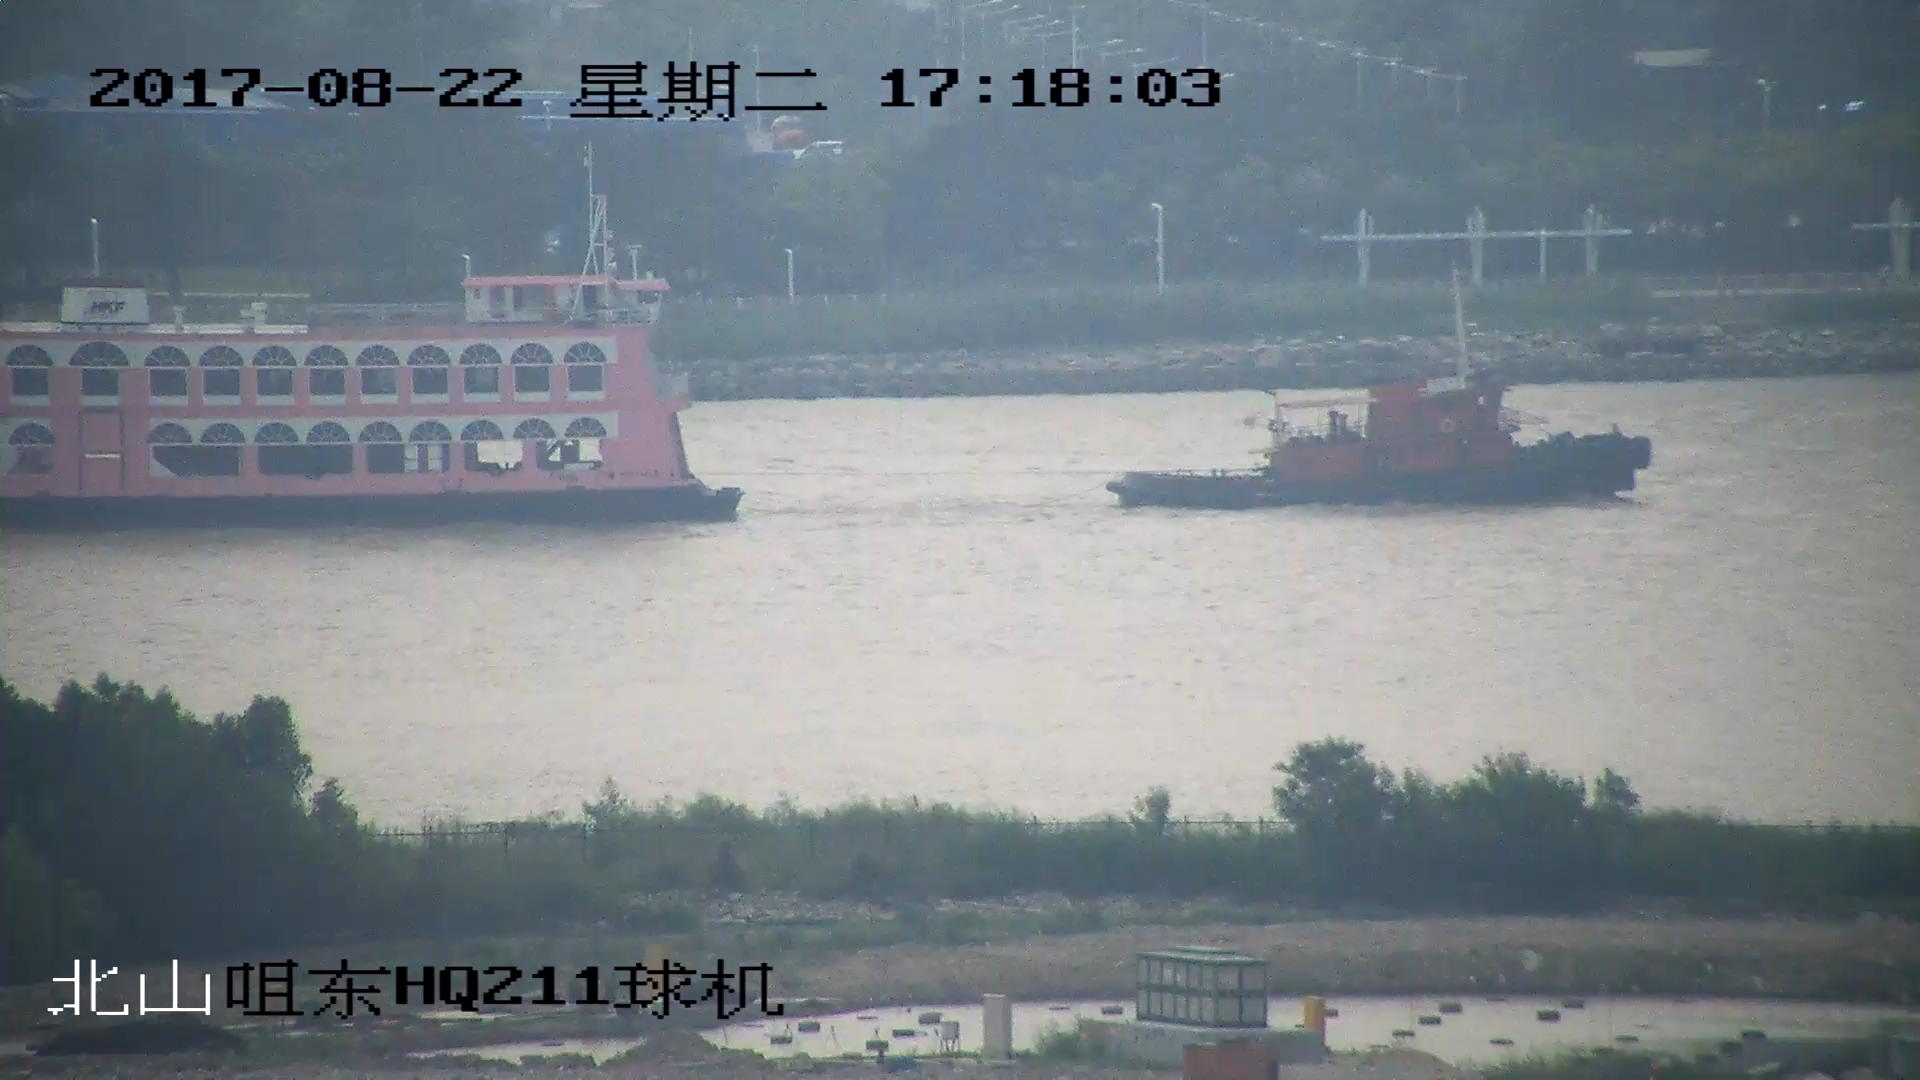fishing boat: (1103, 267, 1653, 511)
passenger ship: (1, 138, 745, 527)
